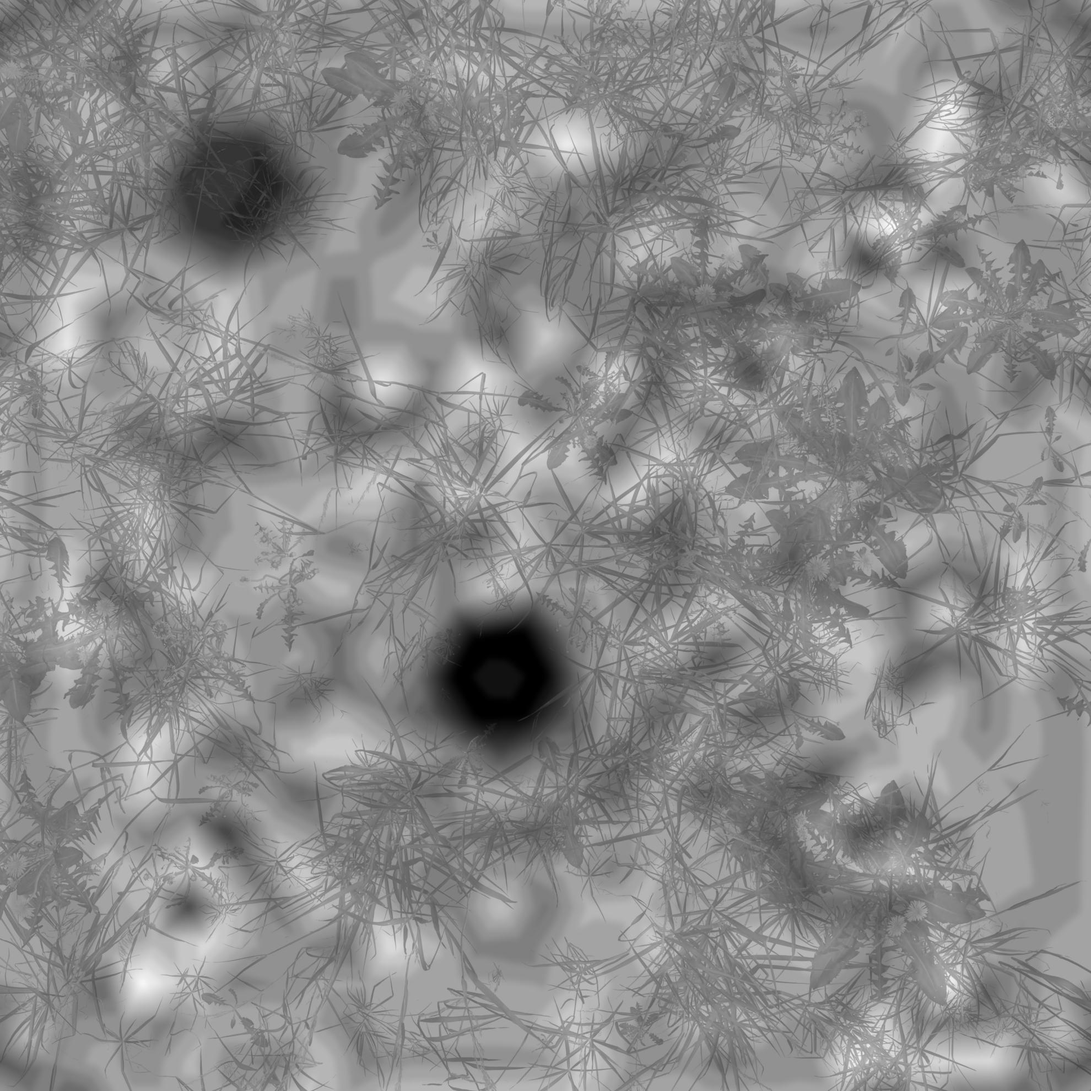landmine: (433, 600, 580, 758), (167, 128, 306, 265)
